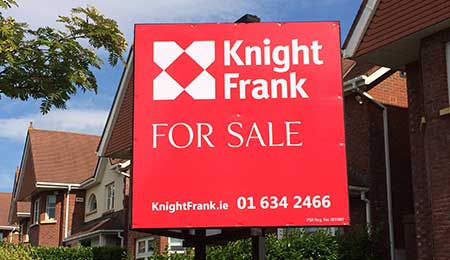property sign: (114, 16, 355, 239)
